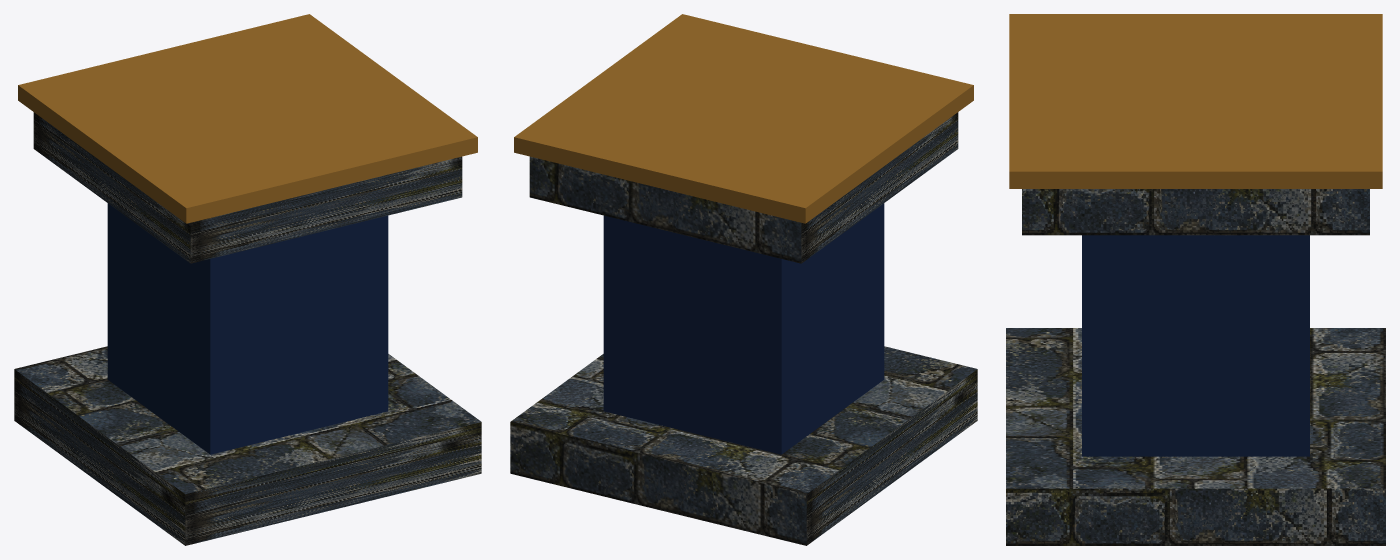
File: C06_Pedestal_Premium.obj
3 views of the same model, side by side, from view 1: azimuth 30°, elevation 25°; view 2: azimuth 150°, elevation 25°; view 3: azimuth 270°, elevation 25° (orthographic). The views are drawn at different scales.
Visible parts, largest first — view 1: C06_Pedestal_Premium; view 2: C06_Pedestal_Premium; view 3: C06_Pedestal_Premium.
Boxes of the visible parts, x1,y1,x2,y2 form: C06_Pedestal_Premium: [14, 14, 481, 545]; C06_Pedestal_Premium: [510, 14, 977, 545]; C06_Pedestal_Premium: [1006, 14, 1385, 545].
Size of the model in its own units: 1.2 by 1.3 by 1.2.
3 materials, 1 textured.
